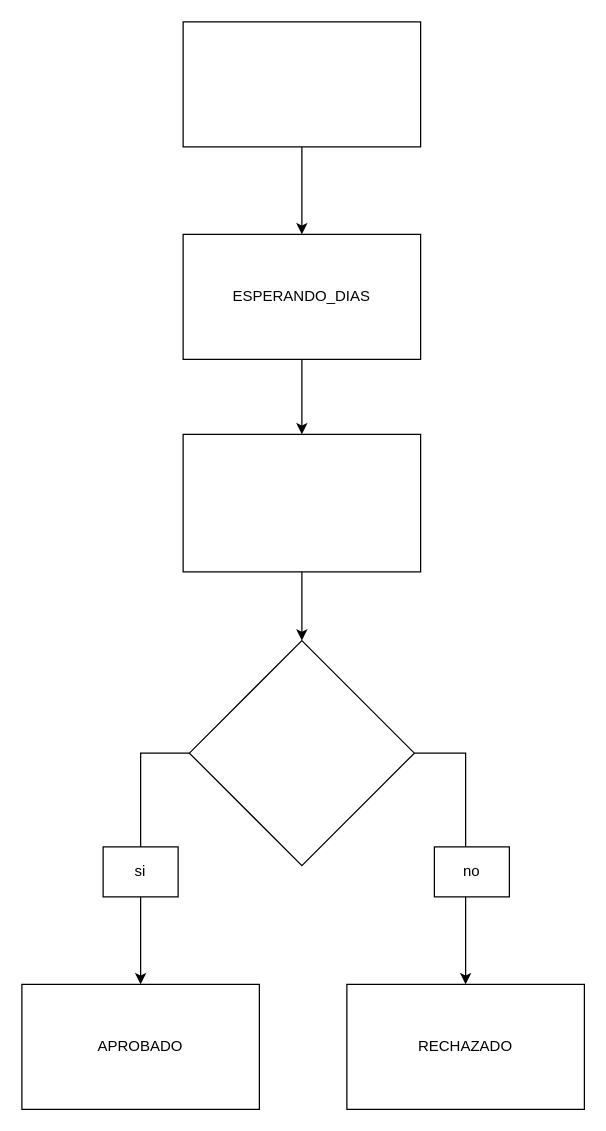
Image size: 606x1131. Some labels were removed from this diagram. The centre of each missing label's shape, as x and y in pixels:
"CONSULTANDO_SALDO" goes at point (301, 502).
"INICIO" goes at point (301, 84).
"¿Saldo suficiente?" goes at point (301, 752).
